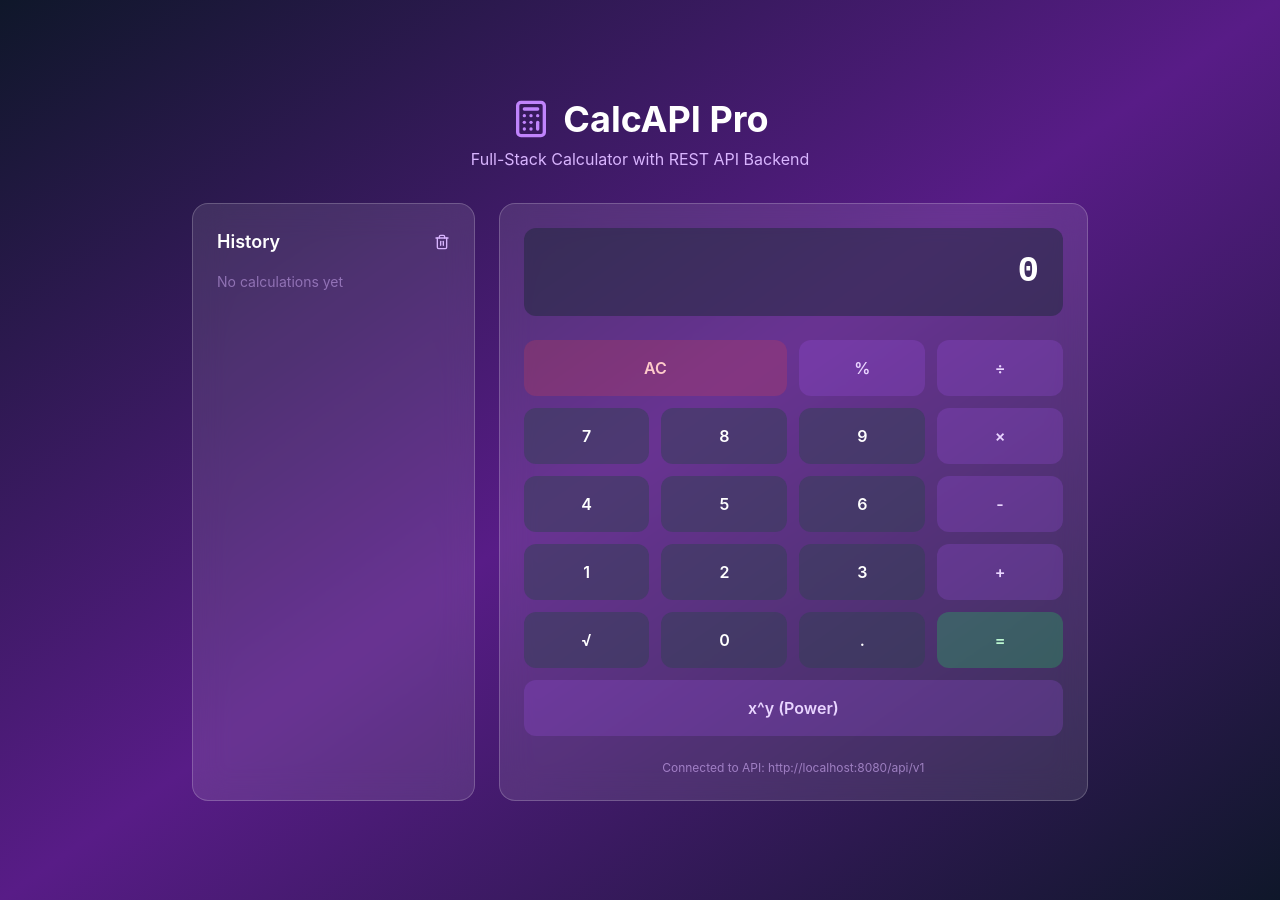
it: Calculator App › handles division by zero error
The width and height of the screenshot is (1280, 900).
Click the button "1": (587, 572) [524, 544, 650, 600]
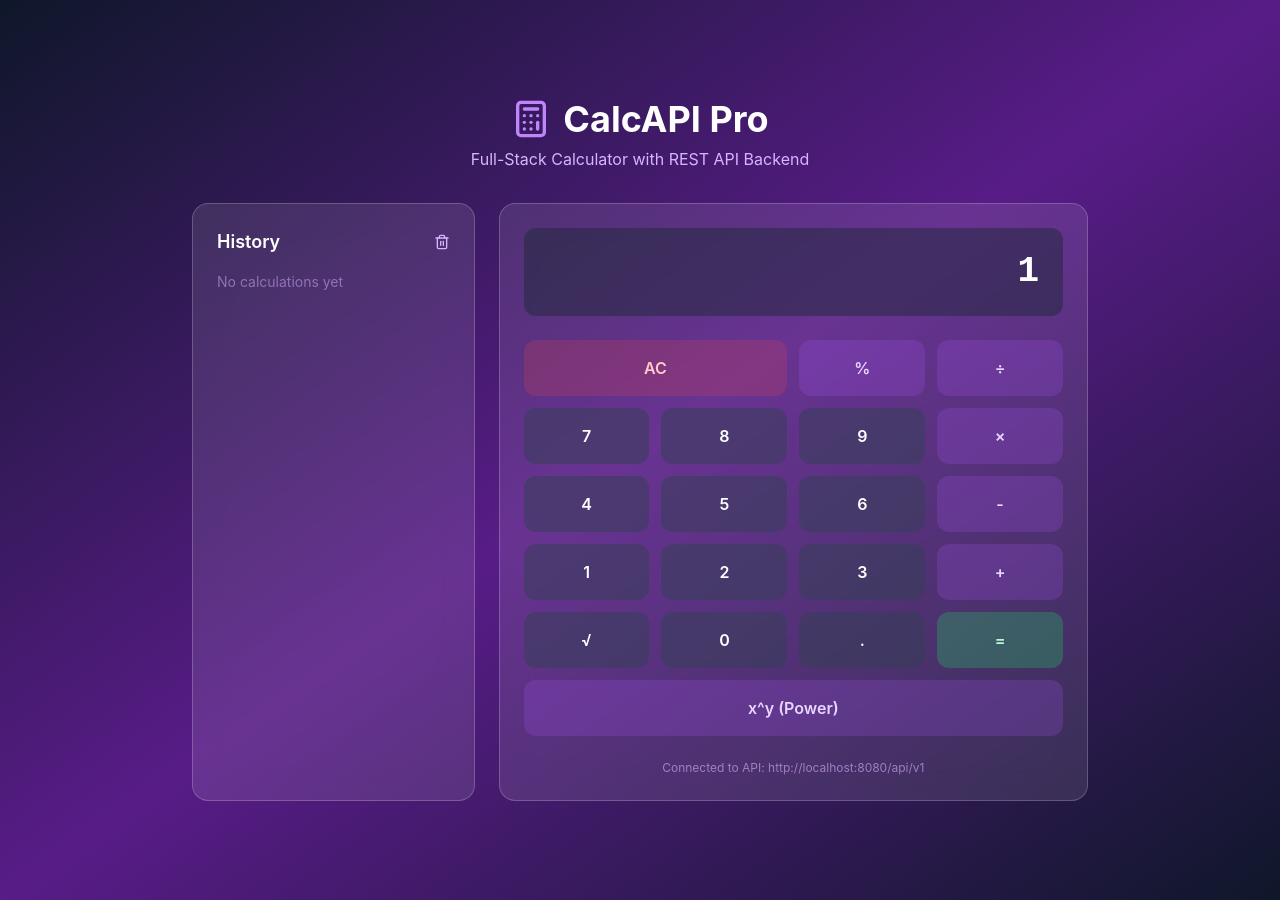
Click the button "0": (724, 640) [662, 612, 787, 668]
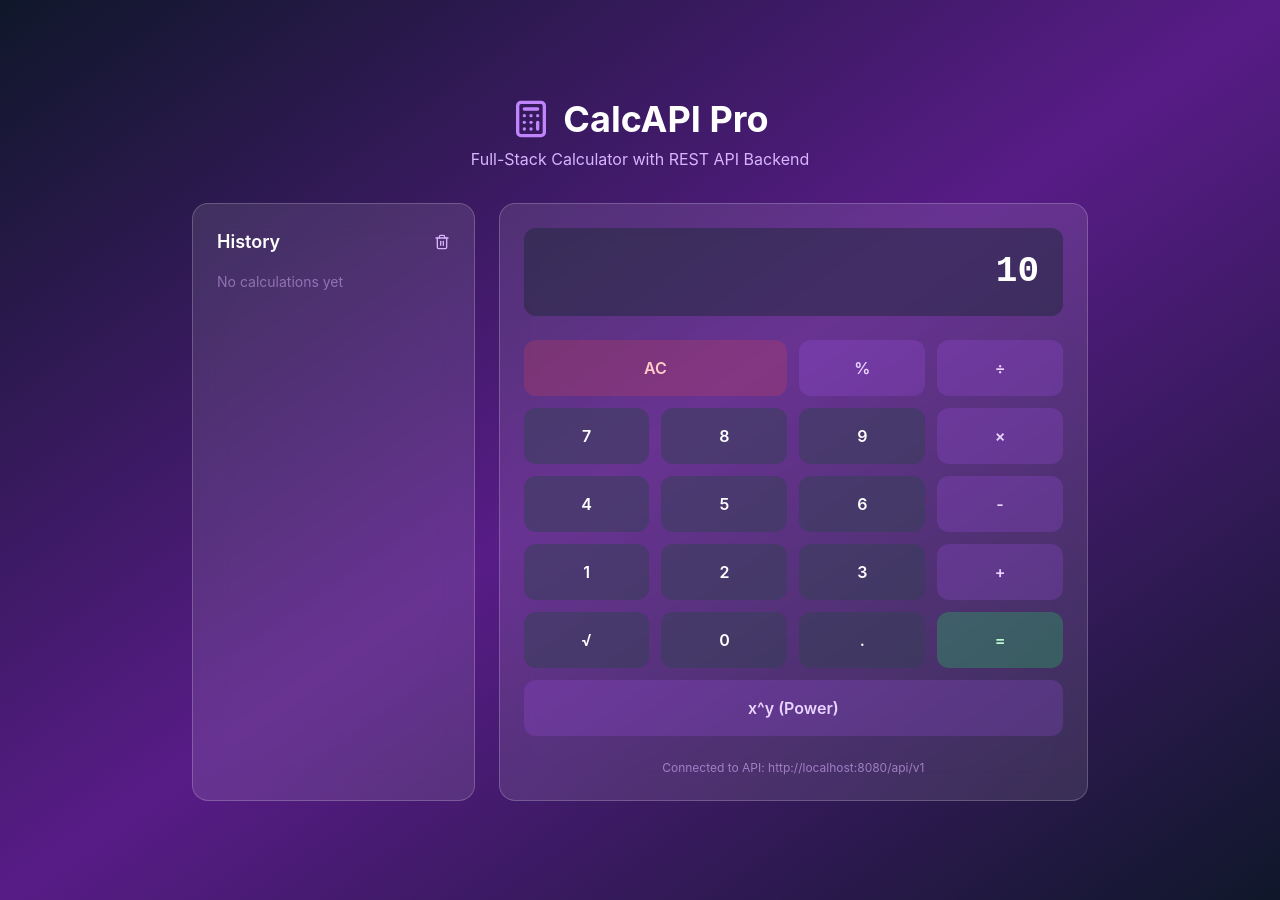
Click the button "÷": (1000, 368) [937, 340, 1063, 396]
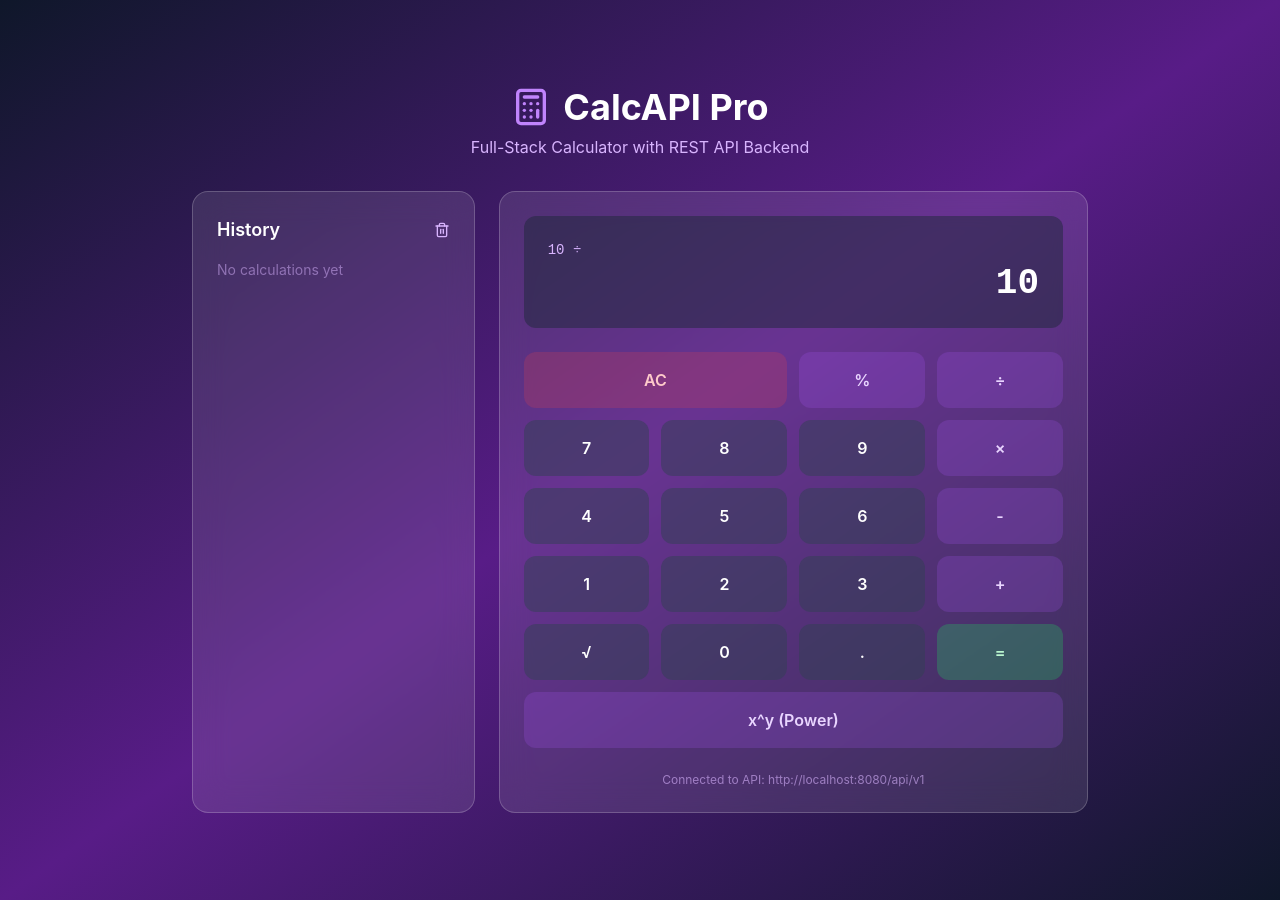
Click the button "0": (724, 652) [662, 624, 787, 680]
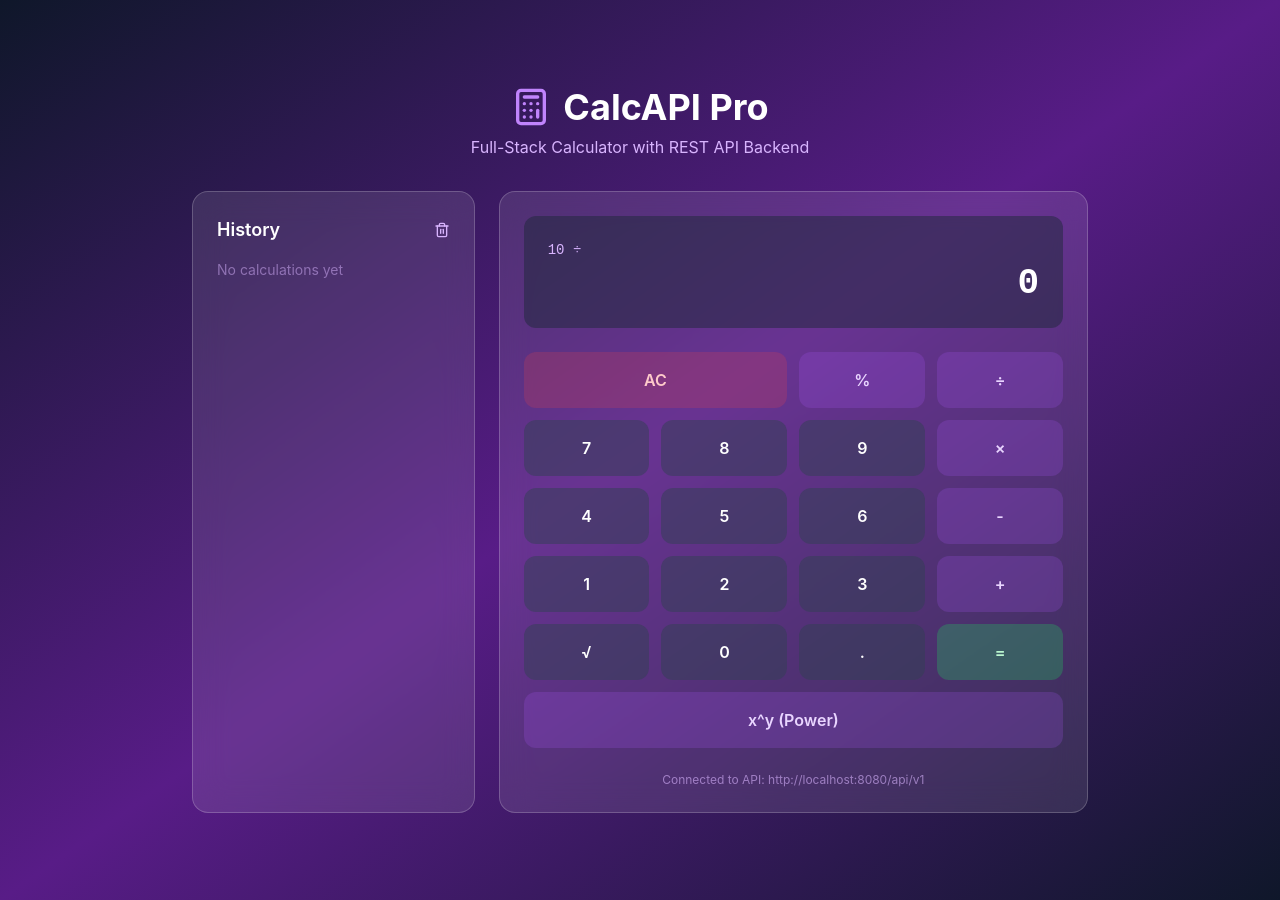
Click the button "=": (1000, 652) [937, 624, 1063, 680]
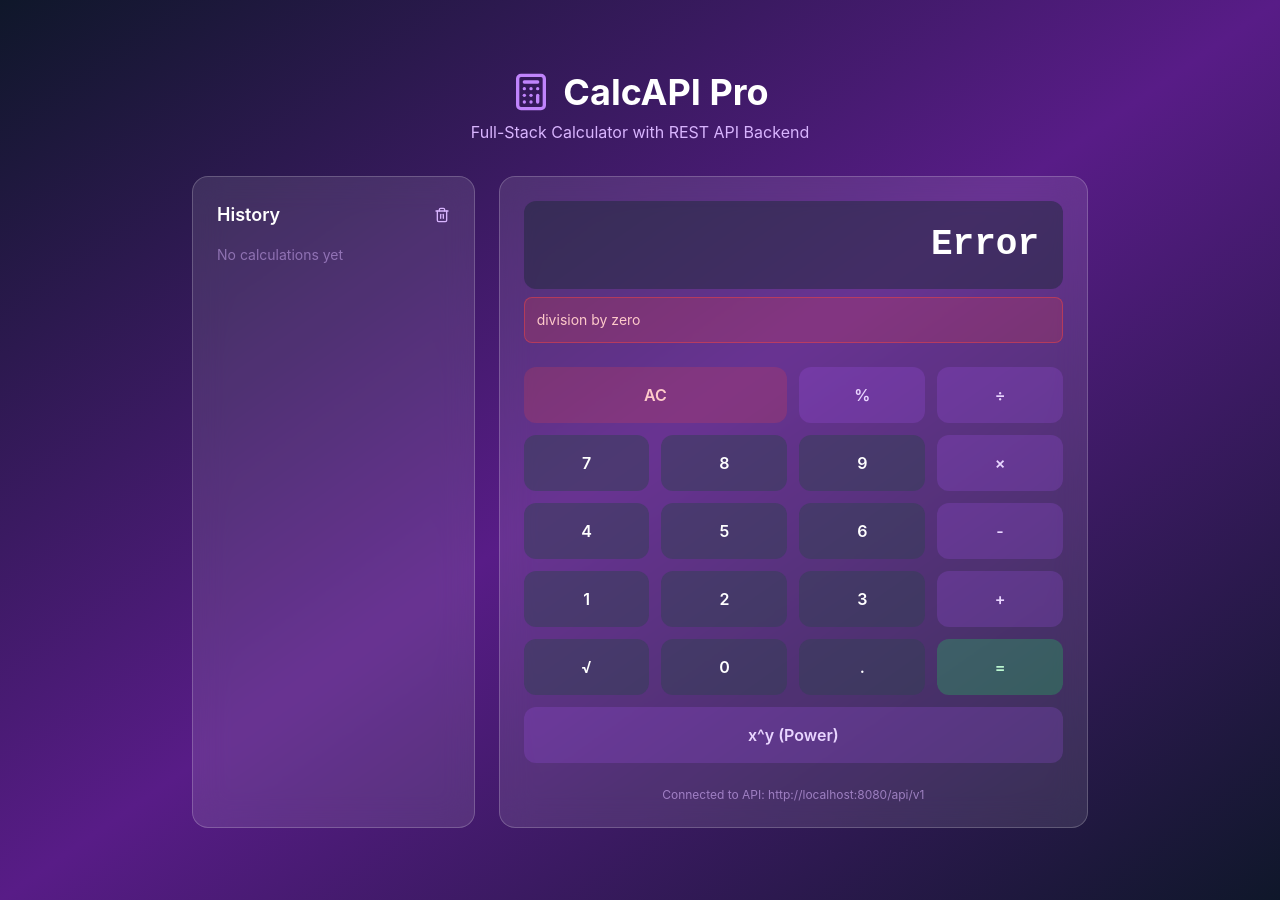
Check: the text "division by zero" is shown, box [524, 297, 1063, 343]
